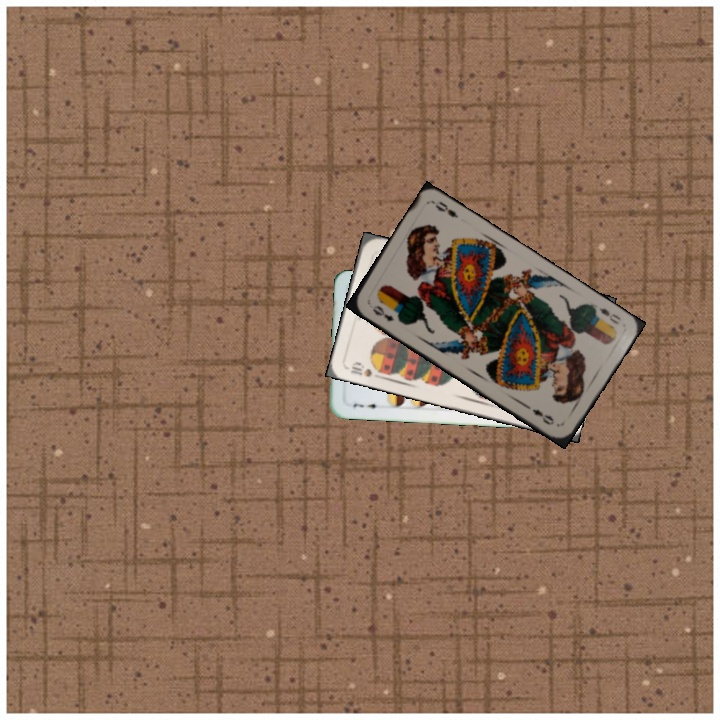E7: (348, 399, 383, 411)
EO: (595, 303, 623, 327), (368, 301, 397, 324)
S10: (346, 358, 384, 379)
